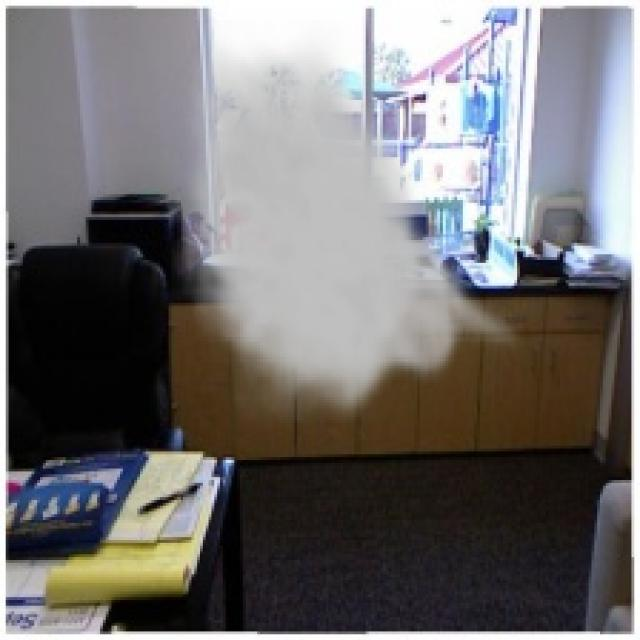smoke: (172, 20, 528, 429)
